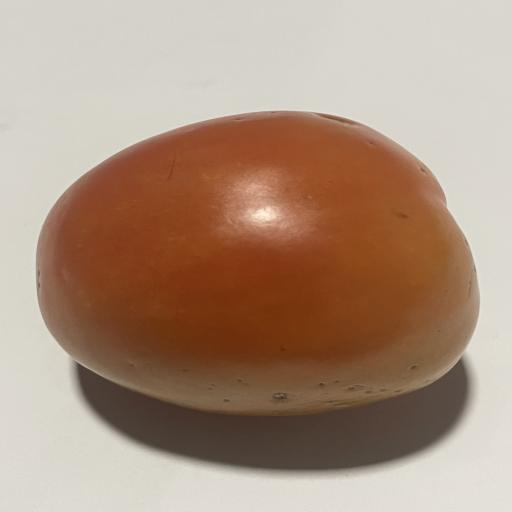unripe: (36, 111, 479, 415)
